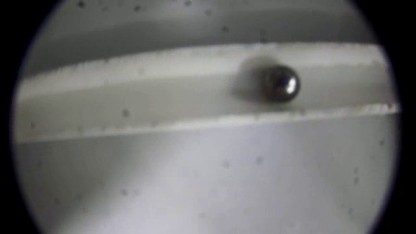gangzhu: (255, 63, 303, 105)
